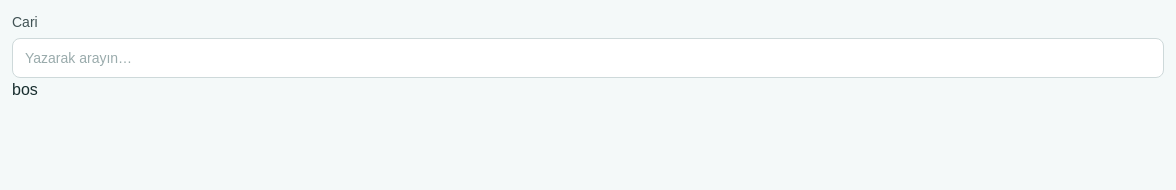
Test: aranabilir seçici › eşleşme yoksa bunu söyler
Type "zzz" into the dropdown labelled "Cari" at [588, 58], box [12, 38, 1164, 78]
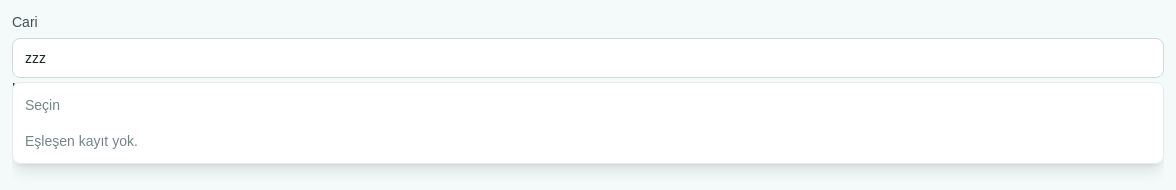
Now the list item "Eşleşen kayıt yok." is shown, box [25, 133, 138, 149]
